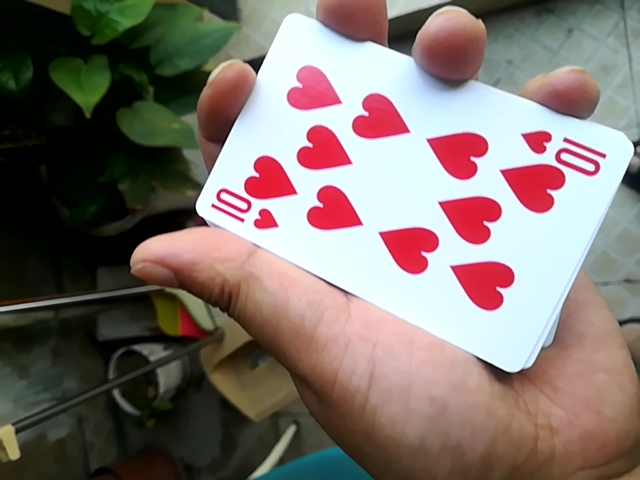hx 10: (174, 12, 640, 354)
